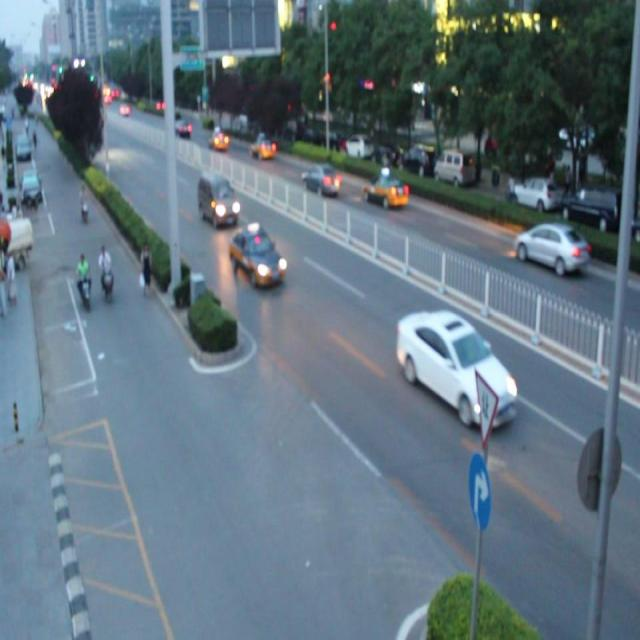car: (395, 309, 516, 425), (512, 220, 588, 273), (228, 222, 282, 286), (362, 170, 407, 208), (301, 163, 340, 197), (249, 134, 272, 158), (208, 126, 227, 149)
truck: (197, 170, 237, 222)
